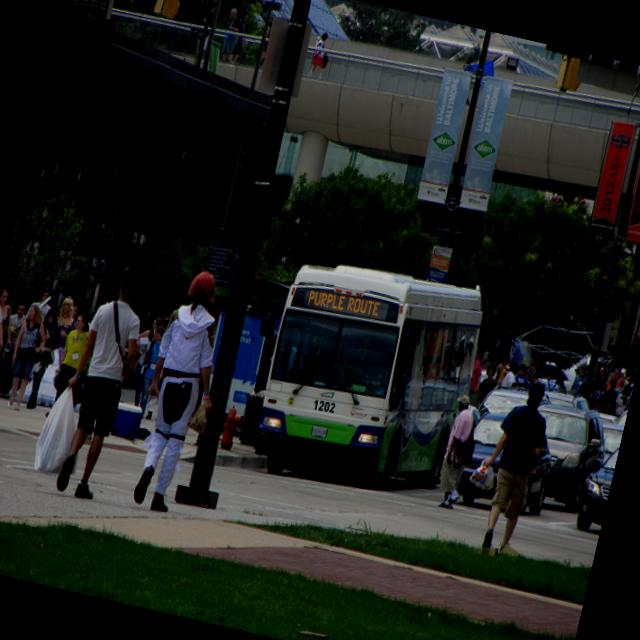Vehicle: (248, 229, 492, 505), (454, 396, 564, 520), (516, 399, 615, 515), (573, 433, 621, 533), (477, 377, 531, 422), (592, 421, 624, 465), (540, 387, 590, 414), (590, 411, 618, 442), (612, 396, 630, 429)
